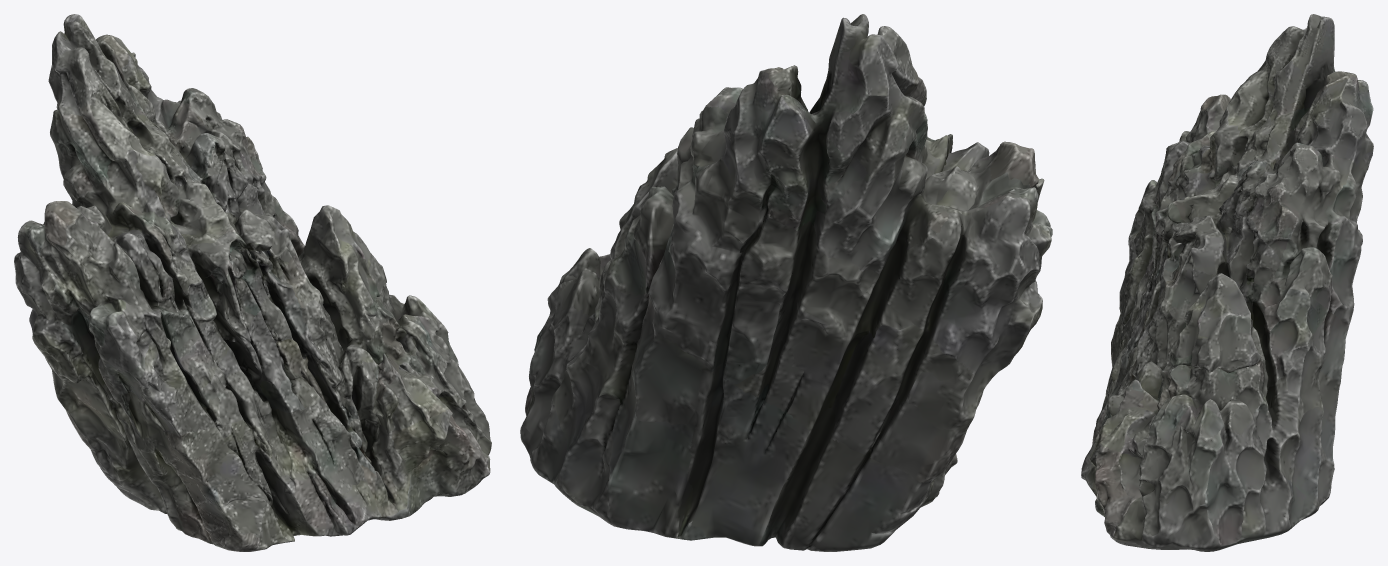
The model's file is JiaShanShi_18.glb.
The picture shows the model from 3 angles, left to right: view 1: azimuth 30°, elevation 25°; view 2: azimuth 150°, elevation 25°; view 3: azimuth 270°, elevation 25°; orthographic projection. The views are drawn at different scales.
Parts seen in each view (by area): view 1: tripo_node_4b6b5c3a-86d4-4b10-a09e-c632f4f27db7; view 2: tripo_node_4b6b5c3a-86d4-4b10-a09e-c632f4f27db7; view 3: tripo_node_4b6b5c3a-86d4-4b10-a09e-c632f4f27db7.
Part boxes in pixels (x1,y1,x2,y2): tripo_node_4b6b5c3a-86d4-4b10-a09e-c632f4f27db7: (14,14,491,551); tripo_node_4b6b5c3a-86d4-4b10-a09e-c632f4f27db7: (520,14,1052,551); tripo_node_4b6b5c3a-86d4-4b10-a09e-c632f4f27db7: (1081,14,1373,551).
Bounding box in the file's own units: 0.9494 × 0.9798 × 0.6343.
Materials: 1 (1 with a texture image).
